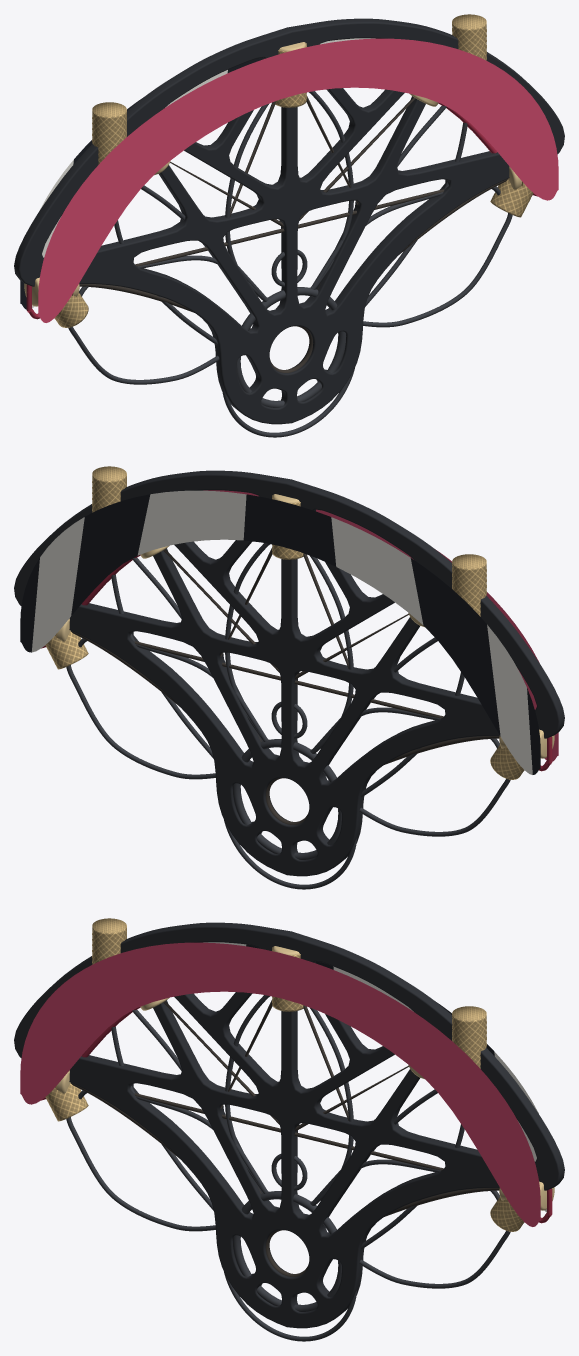
File: fan.glb
The picture shows the model from 3 angles, top to bottom: view 1: azimuth 30°, elevation 25°; view 2: azimuth 150°, elevation 25°; view 3: azimuth 330°, elevation 25°; orthographic projection.
Visible parts, largest first — view 1: Fan_Day_DoodleGripPlate, Fan_Cover_SolidFace, Fan_Lotus, Fan_Lotus_GripRing, Fan_Fire_WickHorizon, Fan_Lotus_LowerOuterPetal_Right, Fan_Cover_StripedFace, Fan_Lotus_LowerOuterPetal_Left, Fan_Lotus_LowerCradle, Fan_Fire, Fan_Fire_UpperRightStar, Fan_Lotus_CenterPetal_Left (+4 smaller); view 2: Fan_Day_DoodleGripPlate, Fan_Cover_StripedFace, Fan_Lotus, Fan_Lotus_GripRing, Fan_Fire_WickHorizon, Fan_Lotus_LowerOuterPetal_Right, Fan_Cover_SolidFace, Fan_Lotus_LowerOuterPetal_Left, Fan_Lotus_LowerCradle, Fan_Fire, Fan_Fire_UpperRightStar, Fan_Lotus_CenterPetal_Left (+4 smaller); view 3: Fan_Day_DoodleGripPlate, Fan_Cover_SolidFace, Fan_Lotus, Fan_Lotus_GripRing, Fan_Fire_WickHorizon, Fan_Lotus_LowerOuterPetal_Left, Fan_Lotus_LowerOuterPetal_Right, Fan_Lotus_LowerCradle, Fan_Cover_StripedFace, Fan_Fire, Fan_Fire_UpperLeftStar, Fan_Lotus_CenterPetal_Right (+4 smaller).
Part boxes in pixels (x1,y1,x2,y2): Fan_Day_DoodleGripPlate: (14, 18, 564, 424); Fan_Cover_SolidFace: (38, 38, 558, 322); Fan_Lotus: (54, 14, 533, 327); Fan_Lotus_GripRing: (237, 287, 346, 407); Fan_Fire_WickHorizon: (135, 189, 444, 266); Fan_Lotus_LowerOuterPetal_Right: (363, 213, 512, 327); Fan_Cover_StripedFace: (20, 38, 375, 309); Fan_Lotus_LowerOuterPetal_Left: (68, 326, 219, 384); Fan_Lotus_LowerCradle: (222, 368, 354, 437); Fan_Fire: (24, 42, 523, 306); Fan_Fire_UpperRightStar: (299, 96, 415, 220); Fan_Lotus_CenterPetal_Left: (225, 103, 269, 265); Fan_Day_DoodleGripPlate: (14, 470, 564, 876); Fan_Cover_StripedFace: (20, 490, 540, 774); Fan_Lotus: (45, 466, 524, 779); Fan_Lotus_GripRing: (232, 739, 341, 859); Fan_Fire_WickHorizon: (134, 641, 443, 718); Fan_Lotus_LowerOuterPetal_Right: (66, 665, 215, 779); Fan_Cover_SolidFace: (203, 490, 558, 761); Fan_Lotus_LowerOuterPetal_Left: (359, 778, 510, 836); Fan_Lotus_LowerCradle: (224, 820, 356, 889); Fan_Fire: (55, 494, 554, 758); Fan_Fire_UpperRightStar: (163, 547, 279, 672); Fan_Lotus_CenterPetal_Left: (309, 555, 353, 717); Fan_Day_DoodleGripPlate: (14, 922, 564, 1328); Fan_Cover_SolidFace: (20, 942, 540, 1226); Fan_Lotus: (45, 918, 524, 1231); Fan_Lotus_GripRing: (232, 1191, 341, 1311); Fan_Fire_WickHorizon: (134, 1093, 443, 1170); Fan_Lotus_LowerOuterPetal_Left: (66, 1117, 215, 1231); Fan_Lotus_LowerOuterPetal_Right: (359, 1230, 510, 1288); Fan_Lotus_LowerCradle: (224, 1272, 356, 1341); Fan_Cover_StripedFace: (203, 942, 546, 1212); Fan_Fire: (55, 946, 554, 1210); Fan_Fire_UpperLeftStar: (163, 999, 279, 1124); Fan_Lotus_CenterPetal_Right: (309, 1007, 353, 1169).
Bounding box in the file's own units: 0.51 × 0.3625 × 0.029.
10 materials, 1 textured.
